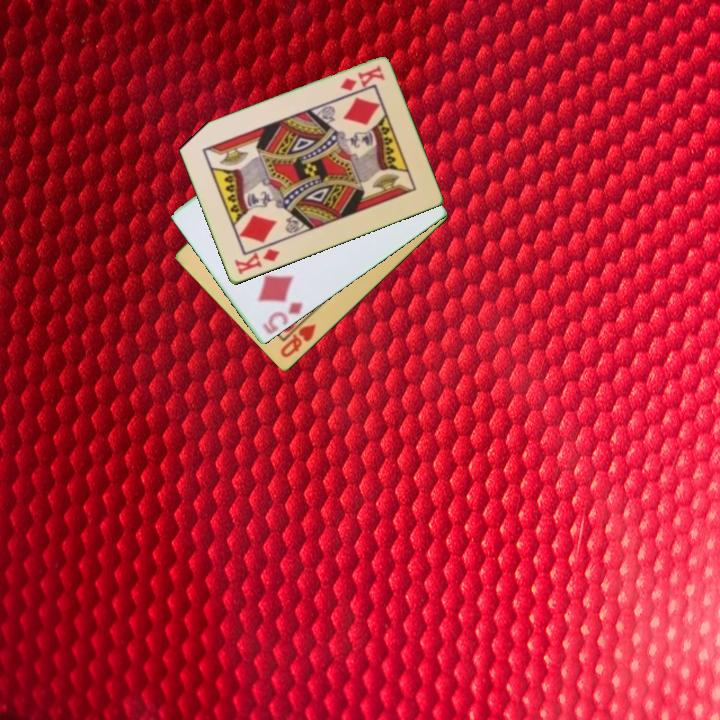5d: (259, 299, 306, 338)
Kd: (231, 245, 282, 278), (337, 62, 387, 94)
Qh: (277, 313, 319, 361)
